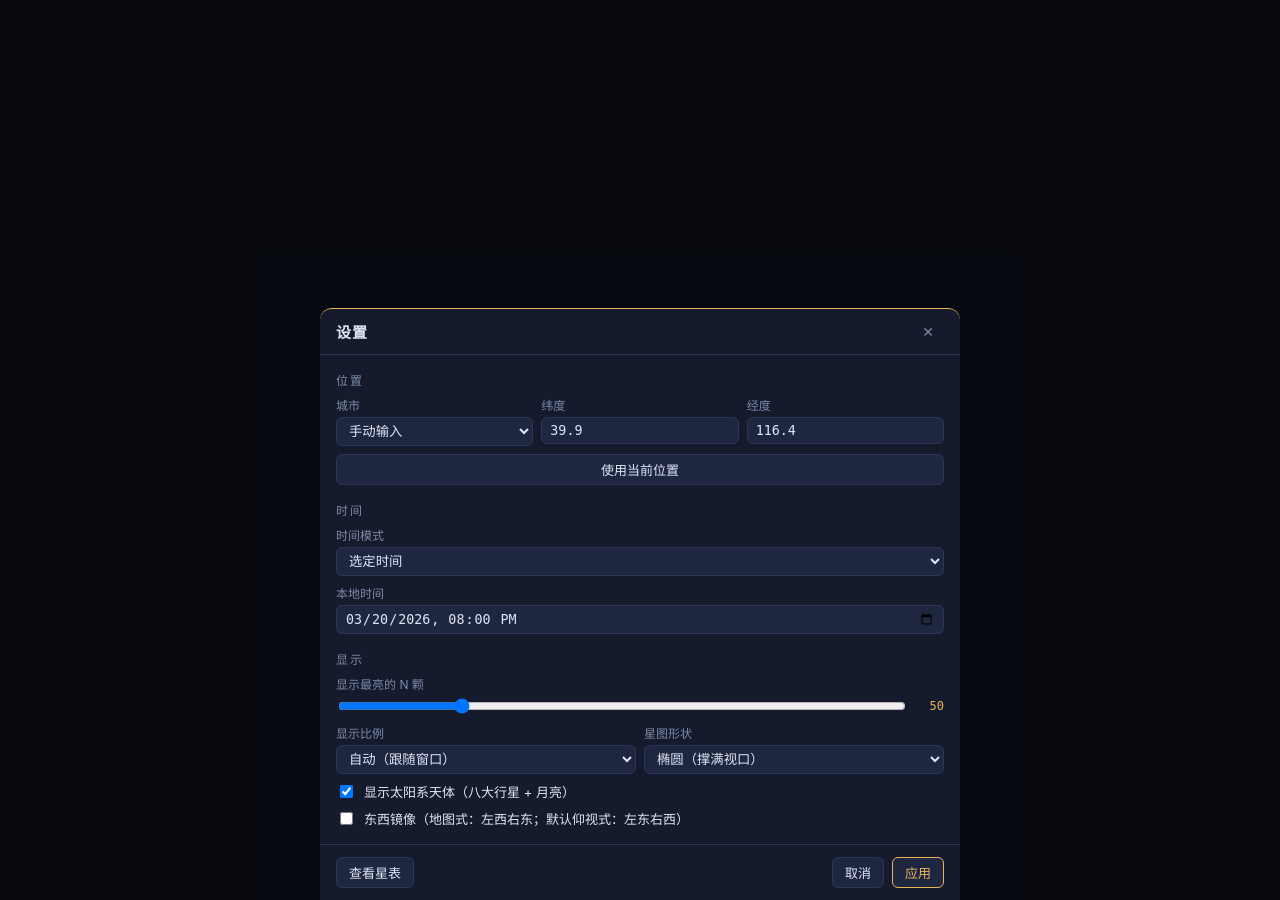
Test: SettingsDialog 基础行为 › 非法值提交显示错误且不回调
Replace the text in the field labelled "纬度" with "99" at [640, 430], box left=541, top=417, right=739, bottom=444
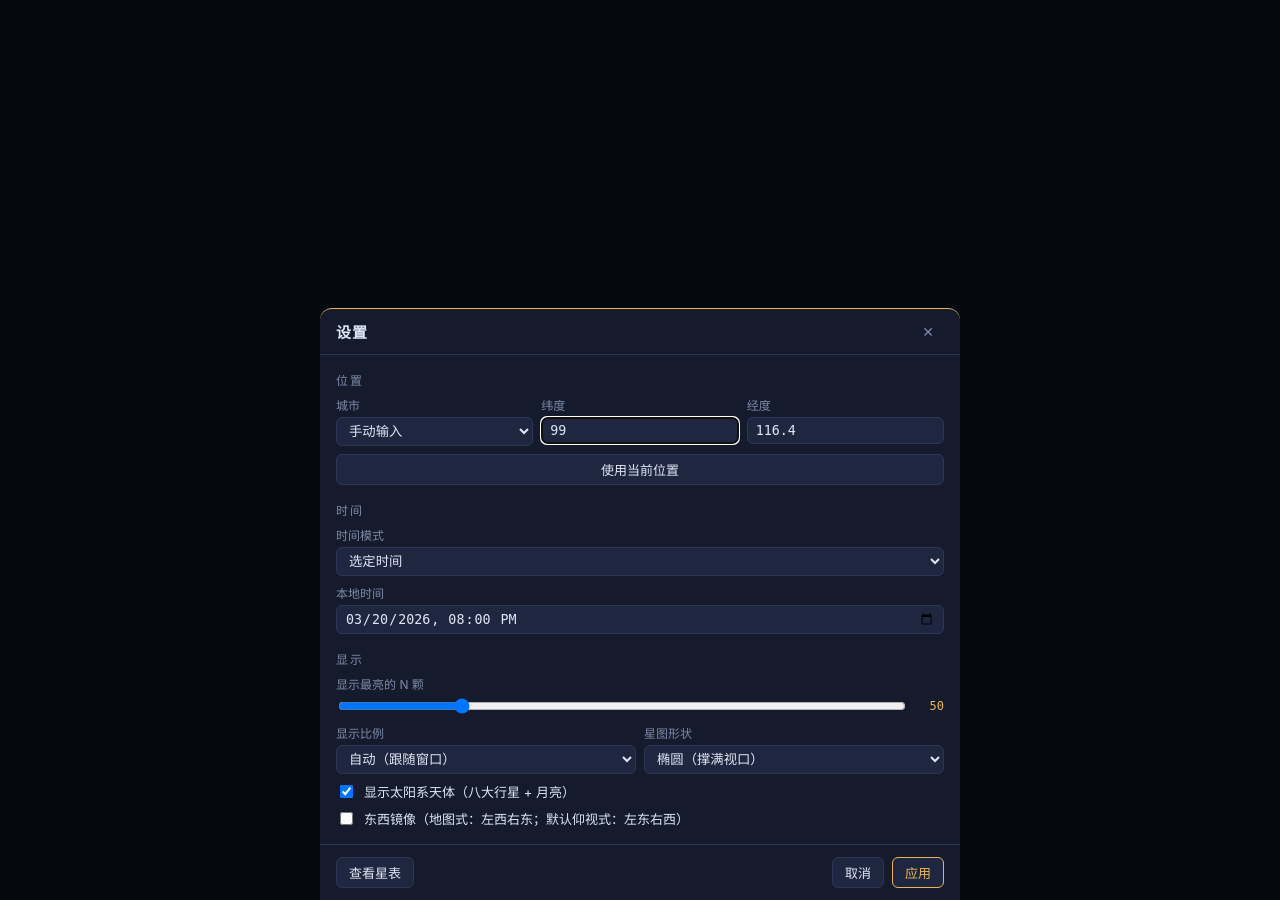
Click the button "应用".
click(918, 872)  # box left=892, top=857, right=944, bottom=888
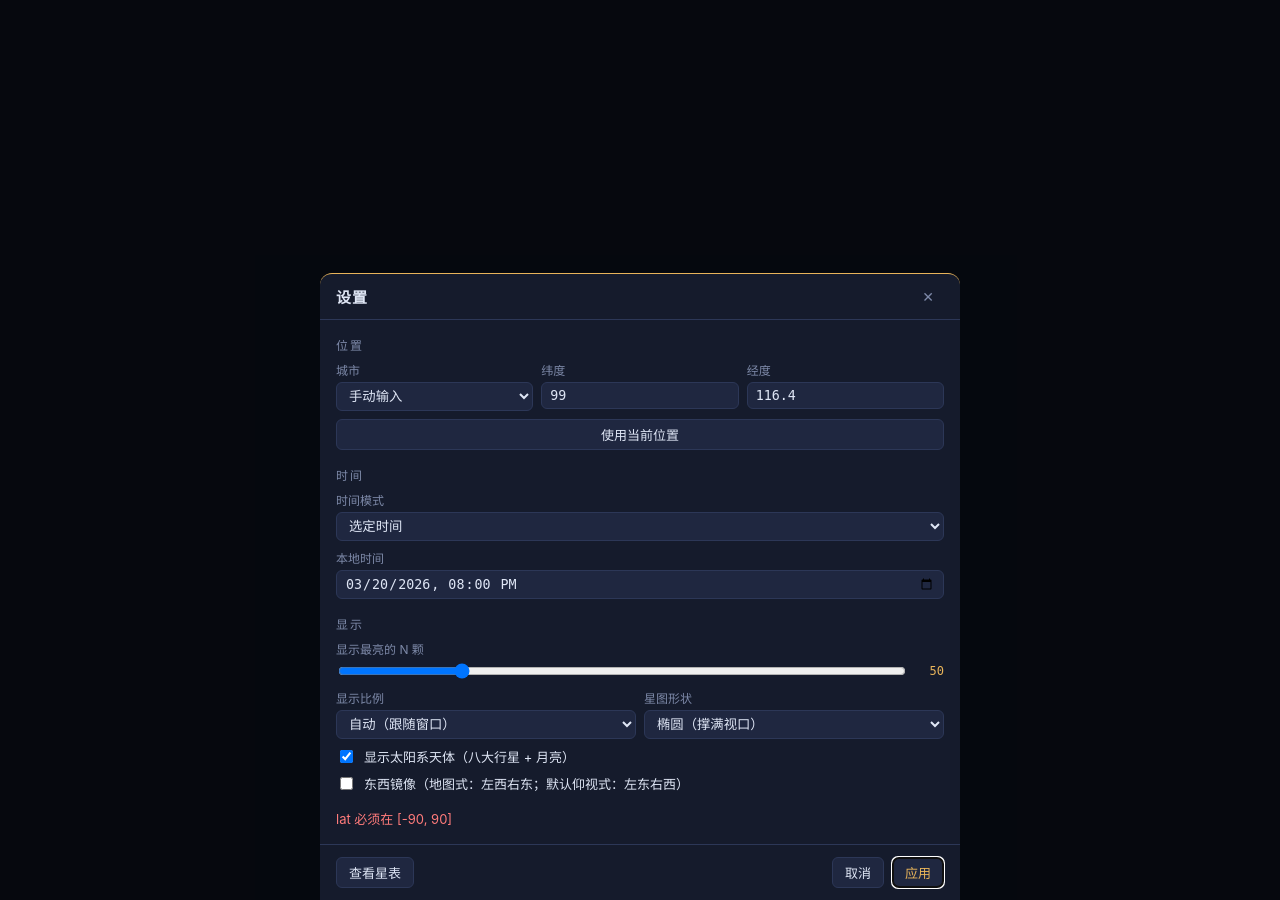
Result: the text "lat 必须在 [-90, 90]" is shown at left=336, top=811, right=452, bottom=827
